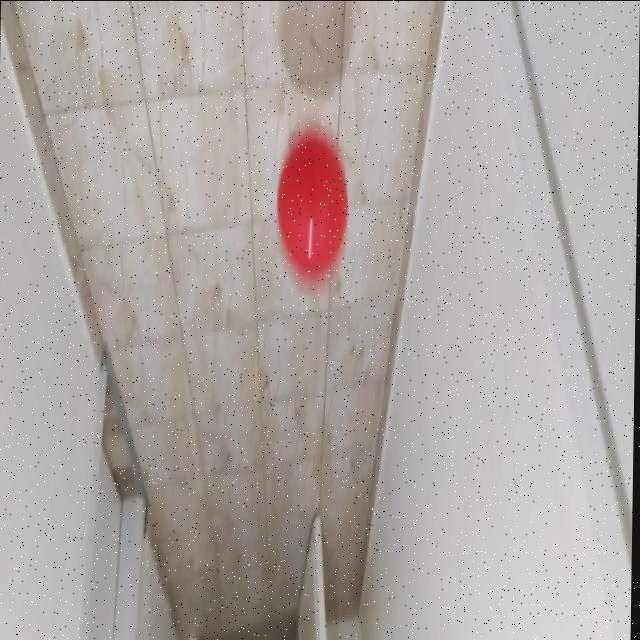balloon: (271, 123, 353, 290)
